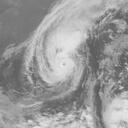cyclone: (4, 0, 123, 106)
